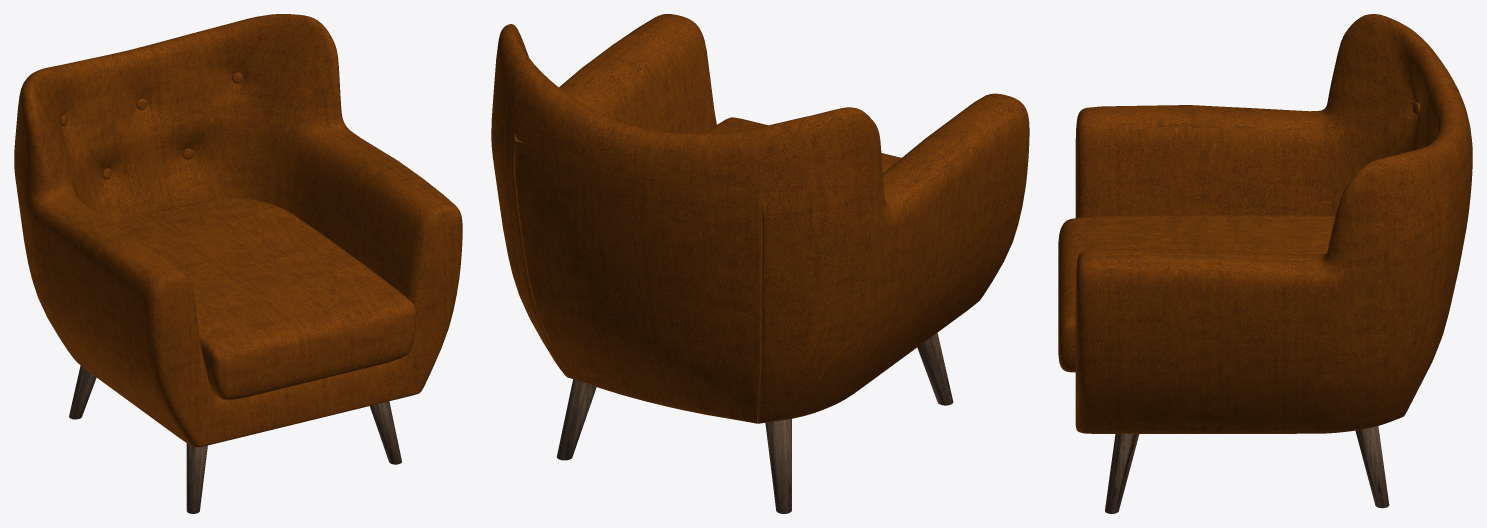
Rendered from orange-armchair.glb.
3 renders of one model, left to right at view 1: azimuth 30°, elevation 25°; view 2: azimuth 150°, elevation 25°; view 3: azimuth 270°, elevation 25°, orthographic. The views are drawn at different scales.
Visible parts, largest first — view 1: orange-armchair, Cylinder004, Cylinder003, Cylinder002; view 2: orange-armchair, Cylinder002, Cylinder001, Cylinder004; view 3: orange-armchair, Cylinder001, Cylinder003.
Part boxes in pixels (x1,y1,x2,y2): orange-armchair: [14, 14, 462, 447]; Cylinder004: [186, 443, 207, 513]; Cylinder003: [370, 401, 401, 464]; Cylinder002: [69, 365, 96, 419]; orange-armchair: [491, 14, 1029, 423]; Cylinder002: [765, 418, 791, 513]; Cylinder001: [557, 379, 596, 460]; Cylinder004: [917, 333, 953, 405]; orange-armchair: [1058, 14, 1472, 433]; Cylinder001: [1355, 426, 1389, 508]; Cylinder003: [1105, 434, 1139, 513].
Size of the model in its own units: 0.8239 by 0.8531 by 0.8657.
2 materials, 2 textured.
